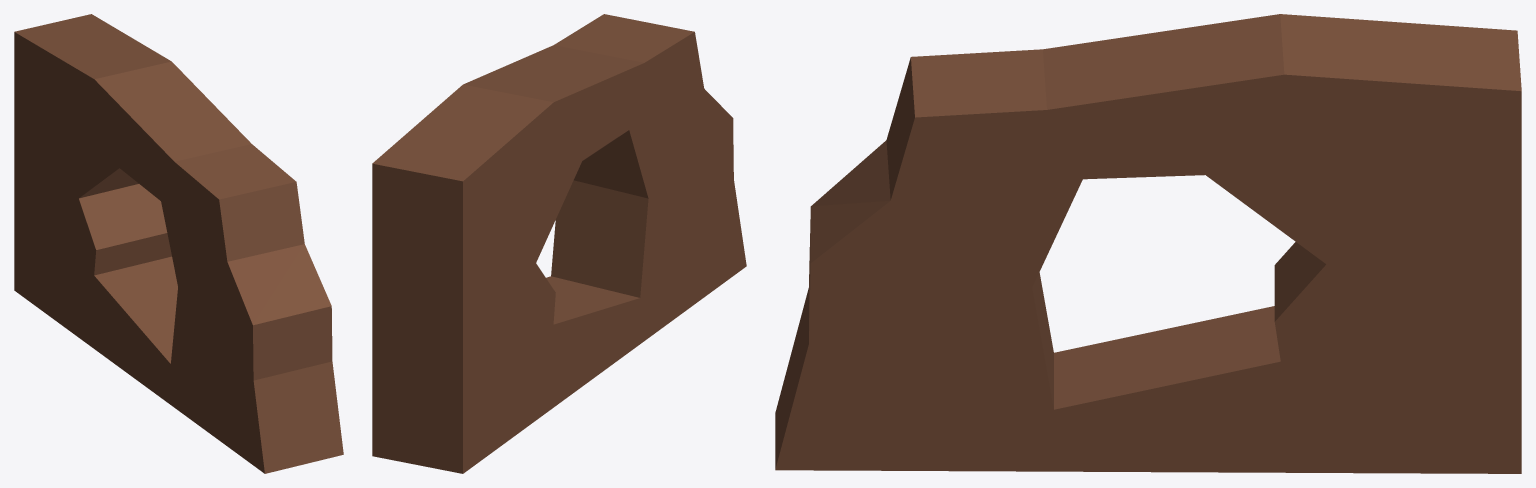
Rendered from DamagedWall001.fbx.
The picture shows the model from 3 angles, left to right: view 1: azimuth 30°, elevation 25°; view 2: azimuth 150°, elevation 25°; view 3: azimuth 270°, elevation 25°; orthographic projection. The views are drawn at different scales.
Parts seen in each view (by area): view 1: Box010; view 2: Box010; view 3: Box010.
Part boxes in pixels (box(x1,y1,x2,y2)): Box010: box(14, 14, 343, 473); Box010: box(372, 14, 746, 473); Box010: box(775, 14, 1521, 473).
Bounding box in the file's own units: 32.42 × 107 × 180.
